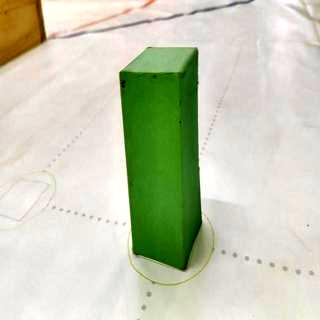greenbox: (119, 45, 204, 272)
